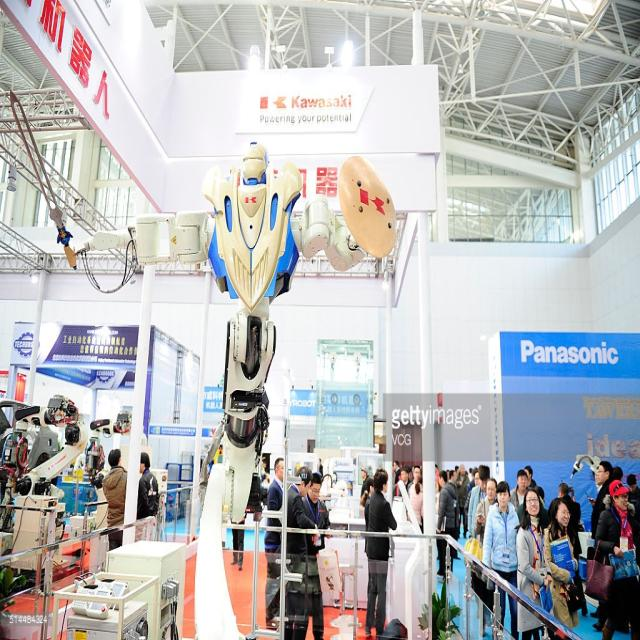body: (582, 477, 639, 639), (481, 477, 523, 639), (362, 465, 399, 639), (514, 486, 554, 640), (284, 465, 319, 640), (542, 496, 580, 633), (302, 472, 332, 640), (473, 476, 499, 639), (557, 482, 588, 618), (588, 460, 613, 620), (263, 456, 285, 630), (359, 474, 379, 630), (100, 446, 128, 552), (433, 467, 458, 579), (466, 462, 492, 542), (134, 452, 160, 522), (624, 472, 640, 568), (196, 441, 223, 493), (455, 464, 471, 540), (230, 506, 248, 570), (407, 473, 423, 533), (510, 468, 530, 514), (463, 464, 480, 518), (434, 479, 444, 561), (464, 469, 481, 517), (451, 489, 461, 562), (90, 434, 106, 477), (359, 464, 372, 508), (398, 466, 413, 498), (407, 464, 422, 496), (434, 461, 442, 516), (258, 455, 270, 490), (523, 464, 538, 490), (445, 461, 458, 489), (592, 464, 604, 494), (392, 459, 402, 486), (610, 464, 624, 483), (534, 484, 548, 502), (316, 457, 324, 486), (390, 462, 396, 496), (405, 464, 413, 484)
